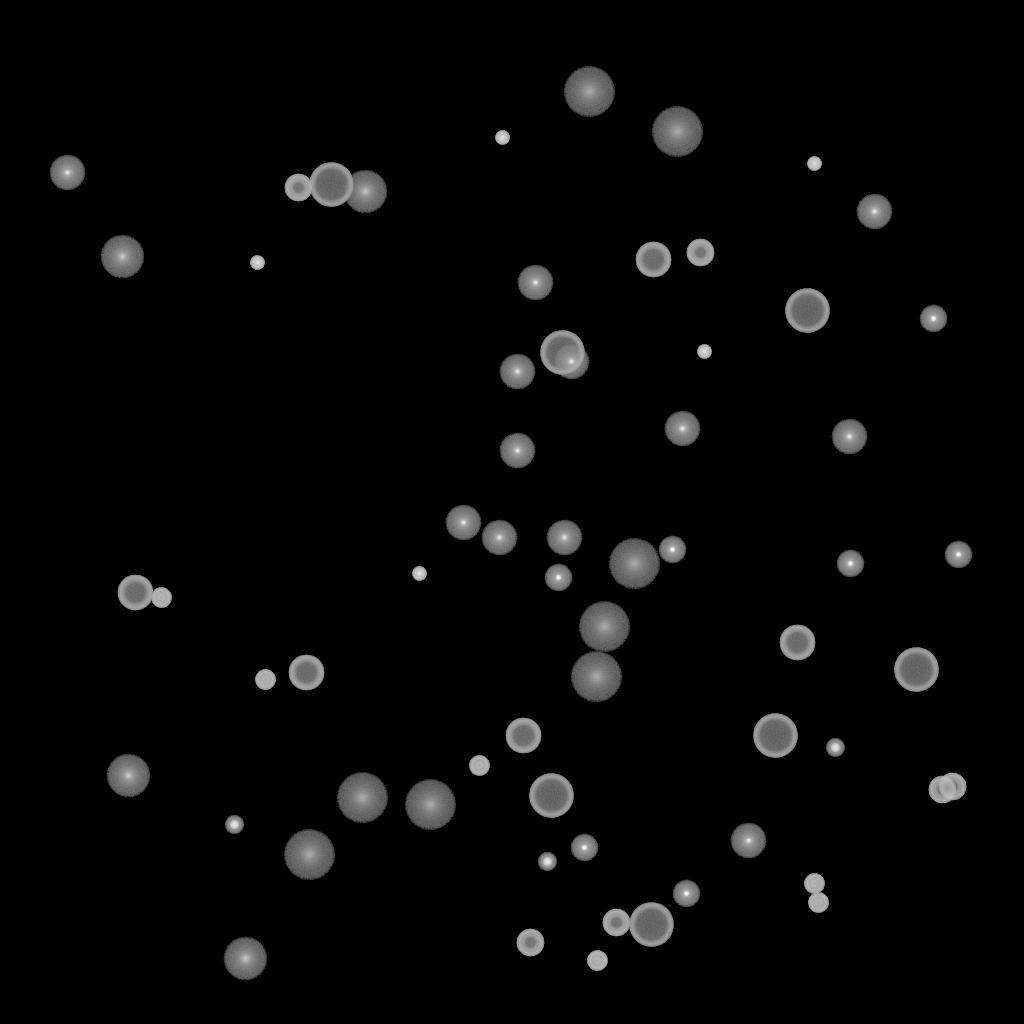depth:-10: (919, 305, 947, 333), (944, 541, 972, 569), (672, 880, 700, 908), (570, 834, 598, 862), (836, 550, 864, 578), (658, 536, 686, 564), (544, 564, 572, 592)
depth:-20: (826, 739, 844, 757), (225, 816, 243, 834), (538, 853, 556, 871)
depth:-30: (495, 131, 509, 145), (697, 345, 711, 359), (807, 157, 821, 171), (412, 567, 426, 581), (250, 256, 264, 270)
depth:-40: (151, 588, 171, 608), (804, 874, 824, 894), (255, 670, 275, 690), (808, 893, 828, 913), (587, 951, 607, 971), (469, 756, 489, 776)
depth:-50: (602, 909, 630, 937), (686, 239, 714, 267), (516, 929, 544, 957), (938, 773, 966, 801), (284, 174, 312, 202), (928, 776, 956, 804)
depth:-60: (779, 625, 815, 661), (505, 718, 541, 754), (635, 242, 671, 278), (288, 655, 324, 691), (117, 575, 153, 611)
depth:-70: (540, 331, 584, 375), (529, 774, 573, 818), (309, 163, 353, 207), (894, 648, 938, 692), (785, 289, 829, 333), (753, 714, 797, 758), (629, 903, 673, 947)
depth:0: (499, 433, 535, 469), (831, 419, 867, 455), (445, 505, 481, 541), (730, 823, 766, 859), (856, 194, 892, 230), (546, 520, 582, 556), (553, 344, 589, 380), (517, 265, 553, 301), (481, 520, 517, 556), (49, 155, 85, 191), (499, 354, 535, 390), (664, 411, 700, 447)
depth:10: (223, 937, 267, 981), (100, 235, 144, 279), (343, 170, 387, 214), (106, 754, 150, 798)
depth:20: (283, 830, 335, 880), (651, 107, 703, 157), (336, 773, 388, 823), (578, 602, 630, 652), (404, 780, 456, 830), (563, 67, 615, 117), (608, 539, 660, 589), (570, 652, 622, 702)
